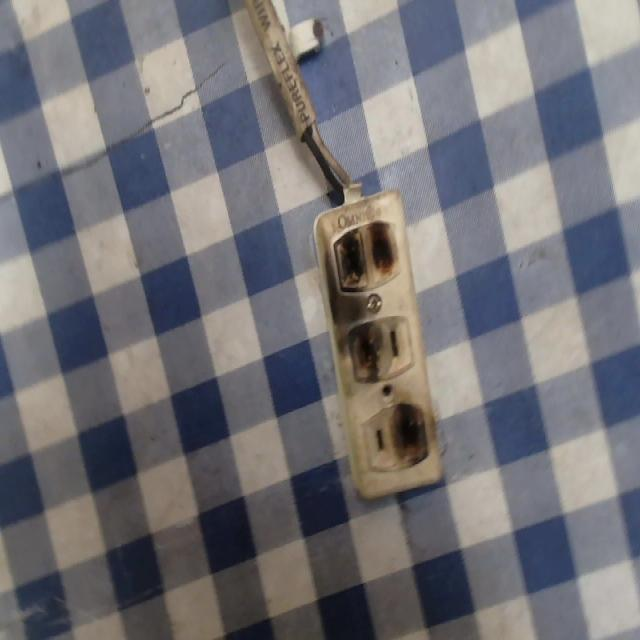-: (329, 212, 413, 297), (390, 402, 434, 469), (344, 323, 385, 380)
